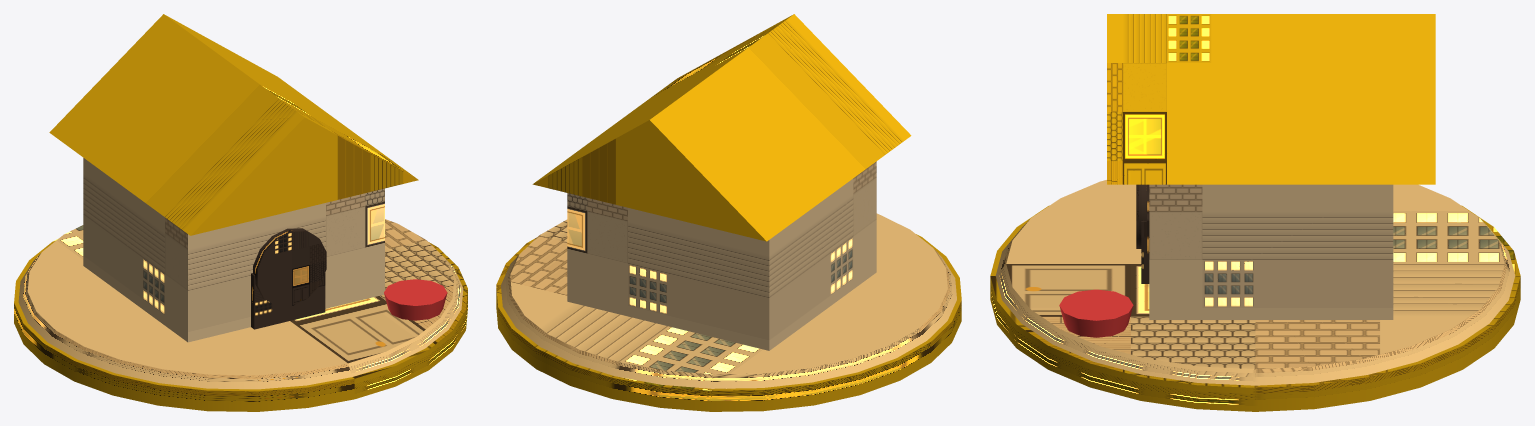
Rendered from tier-02-doghouse.glb.
3 renders of one model, left to right at view 1: azimuth 30°, elevation 25°; view 2: azimuth 150°, elevation 25°; view 3: azimuth 270°, elevation 25°, orthographic. The views are drawn at different scales.
Parts seen in each view (by area): view 1: toon, gloss; view 2: toon; view 3: toon, gloss.
Boxes of the visible parts, x1,y1,x2,y2 form: toon: [14, 14, 467, 411]; gloss: [384, 279, 447, 320]; toon: [496, 14, 961, 411]; toon: [990, 14, 1520, 411]; gloss: [1059, 289, 1133, 337].
Size of the model in its own units: 1 by 0.595 by 1.
Materials: 2 (1 with a texture image).
